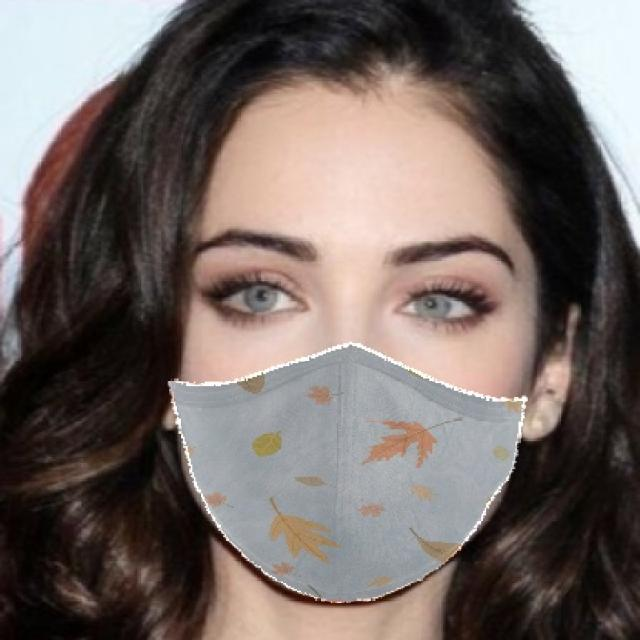mask: (153, 333, 563, 603)
